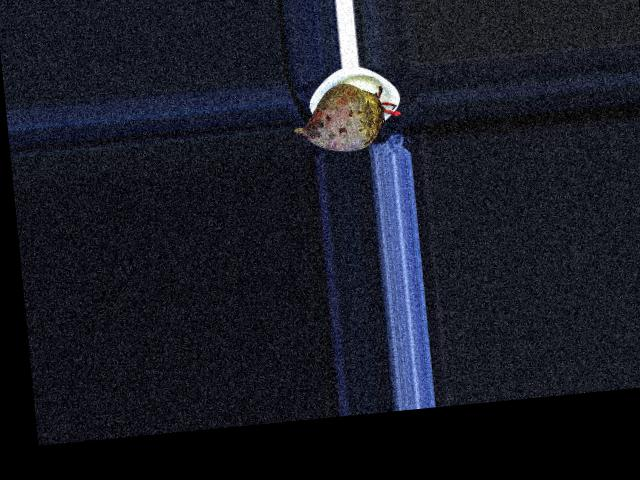beet: (291, 78, 404, 154)
